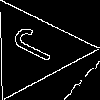J: (8, 24, 69, 69)
